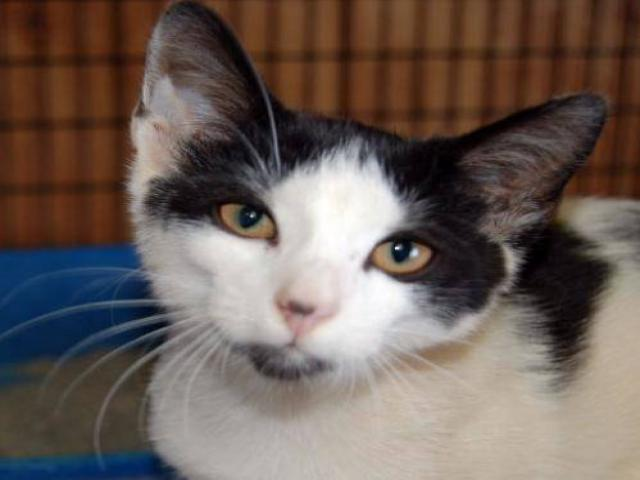cat: (88, 9, 630, 477)
